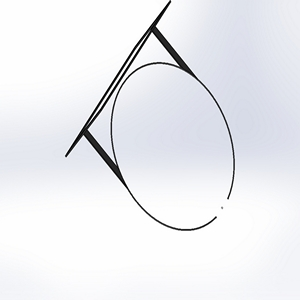circle: (63, 0, 238, 232)
